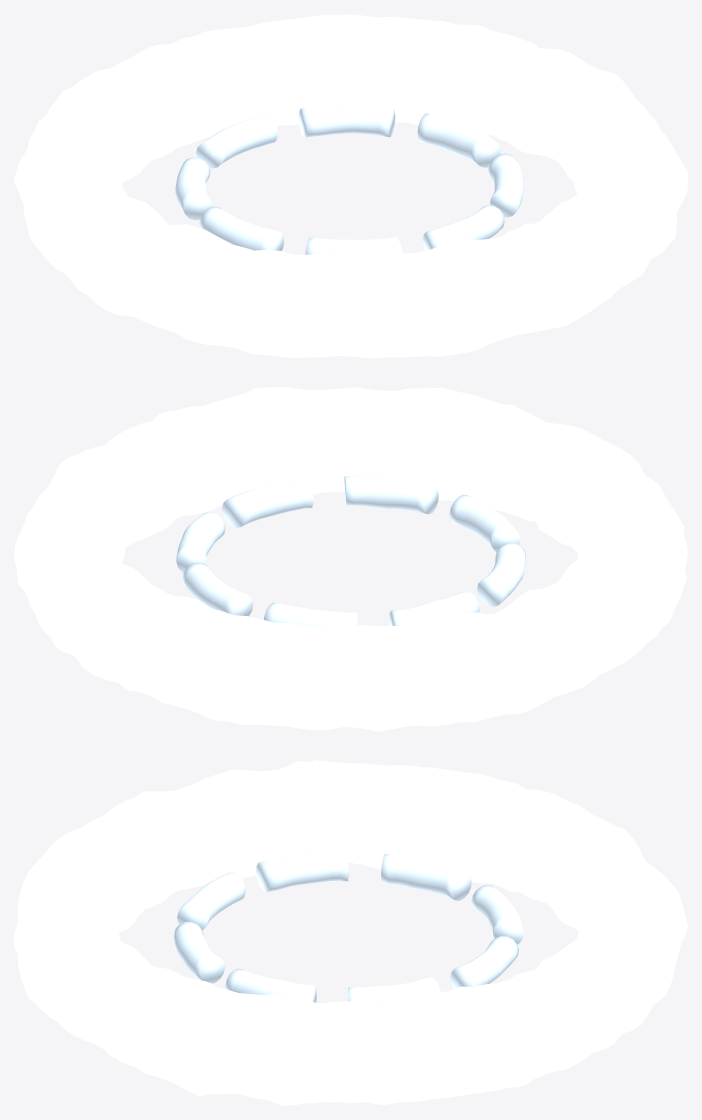
The model's file is portal.glb.
3 views of the same model, one above another, from view 1: azimuth 30°, elevation 25°; view 2: azimuth 150°, elevation 25°; view 3: azimuth 270°, elevation 25° (orthographic).
Parts seen in each view (by area): view 1: PortalRing, PortalSegments; view 2: PortalRing, PortalSegments; view 3: PortalRing, PortalSegments.
Part boxes in pixels (x1=…): PortalRing: x1=14, y1=14, x2=687, y2=358; PortalSegments: x1=175, y1=104, x2=524, y2=257; PortalRing: x1=14, y1=387, x2=687, y2=731; PortalSegments: x1=176, y1=476, x2=525, y2=628; PortalRing: x1=14, y1=760, x2=687, y2=1105; PortalSegments: x1=173, y1=851, x2=523, y2=1004.
Size of the model in its own units: 7.16 by 1.26 by 7.17.
